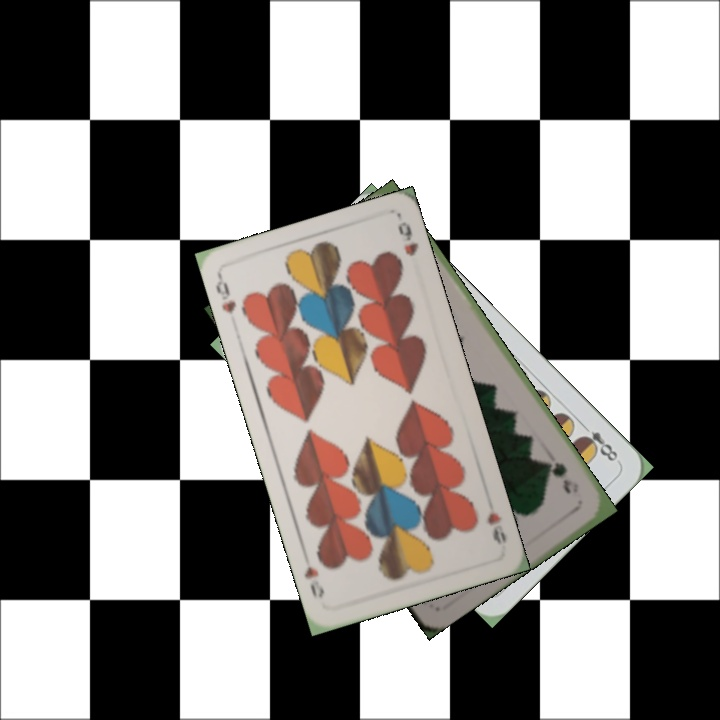E8: (576, 419, 621, 464)
G9: (542, 457, 582, 497)
H9: (211, 271, 239, 317), (483, 508, 509, 547)
